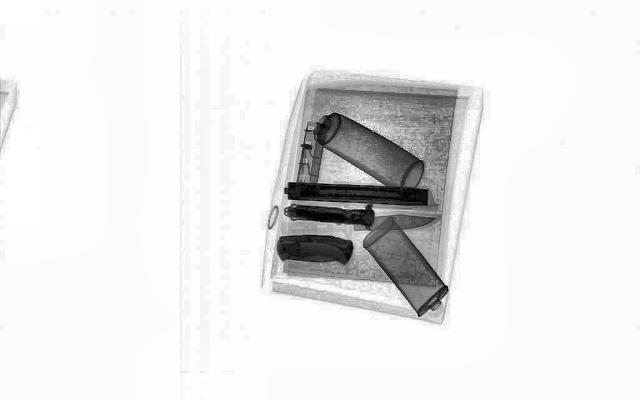Knife: (270, 232, 356, 264), (282, 200, 378, 228), (352, 212, 436, 233)
